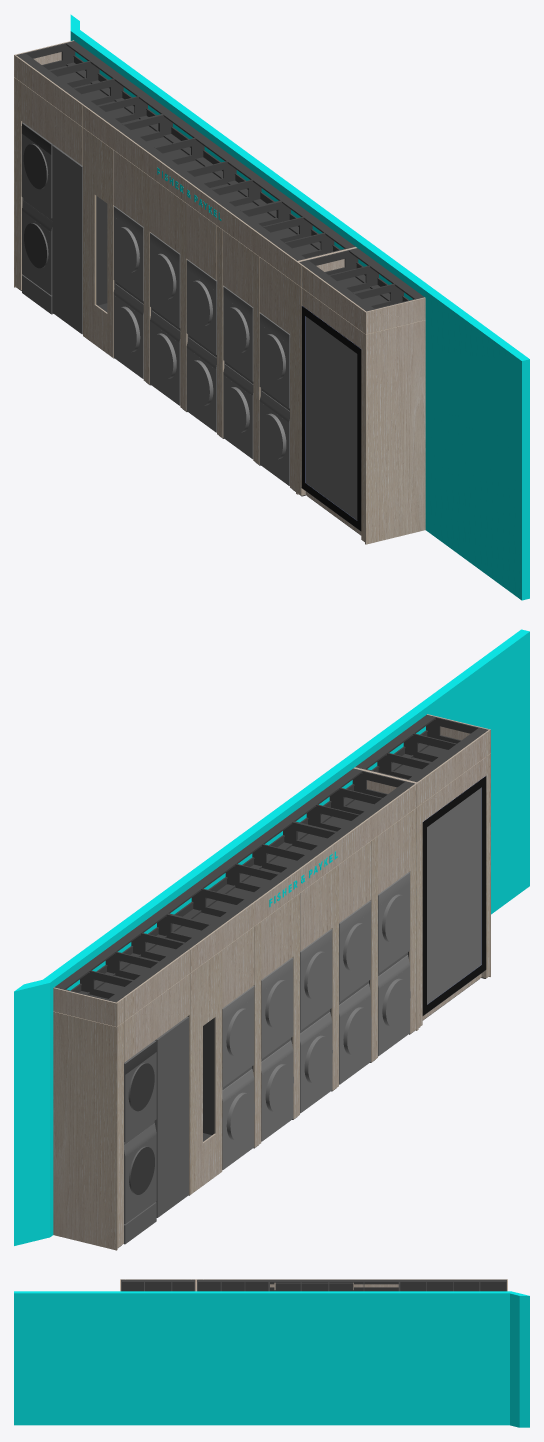
Rendered from F&P_Laudry End cap_IFC.glb.
The picture shows the model from 3 angles, top to bottom: view 1: azimuth 30°, elevation 25°; view 2: azimuth 150°, elevation 25°; view 3: azimuth 270°, elevation 25°; orthographic projection. The views are drawn at different scales.
Visible parts, largest first — view 1: Wall (×2), End_panel, Face_Panel (×9), Touchscreen Panel, Lift_Up_Door (×5), A5. FC1260HG2, Door_LH, Rail (×4), Metal Frame, A1. WH1260HG5, A11. WH1260RG5, A17. WH1060PS (+19 smaller); view 2: Wall (×2), End_panel (×2), Face_Panel (×9), Lift_Up_Door (×5), Touchscreen Panel, Shaped_Rib (×9), A5. FC1260HG2, Rail (×5), Door_LH, Metal Frame, A1. WH1260HG5, A8. WH1260TG5 (+19 smaller); view 3: Wall (×2), Rail (×9), Light_Panel, Top, Face_Panel_Logo_01.
Boxes of the visible parts, x1,y1,x2,y2 form: Wall (×2): (70,14,529,600); End_panel: (365,320,425,544); Face_Panel (×9): (15,78,364,541); Touchscreen Panel: (305,316,357,520); Lift_Up_Door (×5): (113,150,289,333); A5. FC1260HG2: (52,145,82,334); Door_LH: (89,132,114,357); Rail (×4): (18,41,288,212); Metal Frame: (301,306,361,530); A1. WH1260HG5: (21,122,53,218); A11. WH1260RG5: (150,310,180,405); A17. WH1060PS: (223,364,253,459); Wall (×2): (14,629,529,1245); End_panel (×2): (53,987,117,1250); Face_Panel (×9): (117,754,489,1247); Lift_Up_Door (×5): (222,812,410,1008); Touchscreen Panel: (427,787,481,1004); Shaped_Rib (×9): (80,733,456,998); A5. FC1260HG2: (154,1016,188,1217); Rail (×5): (56,715,435,1001); Door_LH: (196,950,222,1189); Metal Frame: (422,776,486,1015); A1. WH1260HG5: (124,1040,156,1141); A8. WH1260TG5: (222,1069,254,1169); Wall (×2): (14,1291,529,1427); Rail (×9): (121,1279,506,1291); Light_Panel: (276,1284,352,1289); Top: (275,1282,353,1284); Face_Panel_Logo_01: (365,1279,424,1287).
Size of the model in its own units: 0.9408 by 2.68 by 9.5.
19 materials, 3 textured.
